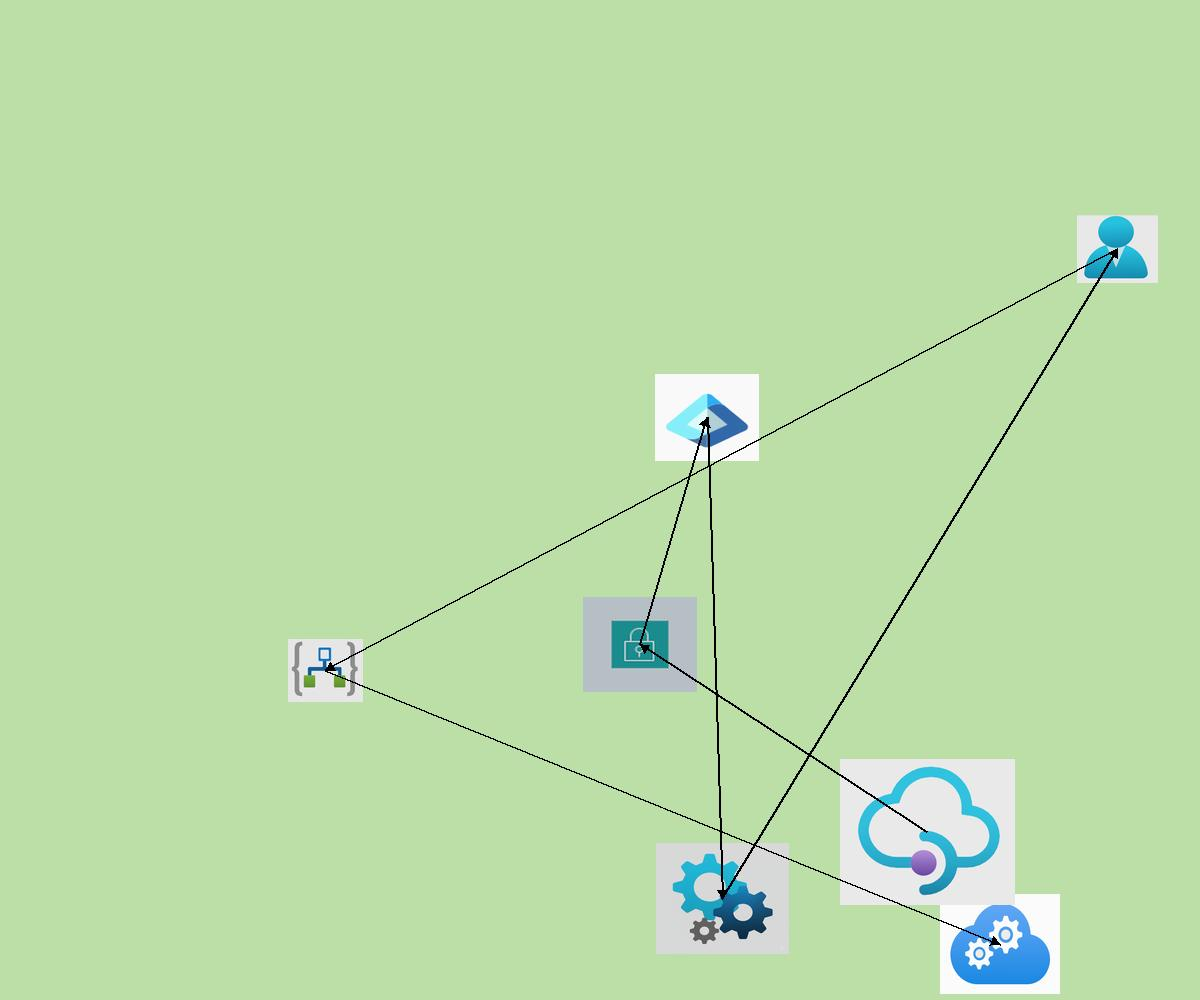AWS-Private-subnet: (583, 597, 697, 692)
Azure_api: (656, 843, 789, 954)
Azure_api_gateway: (840, 759, 1015, 905)
Azure_cloud_services: (940, 894, 1060, 994)
Azure_integration-204-Logic-Apps: (288, 639, 363, 702)
Azure_microsoft_entra: (655, 374, 759, 461)
Azure_users: (1077, 215, 1158, 283)
